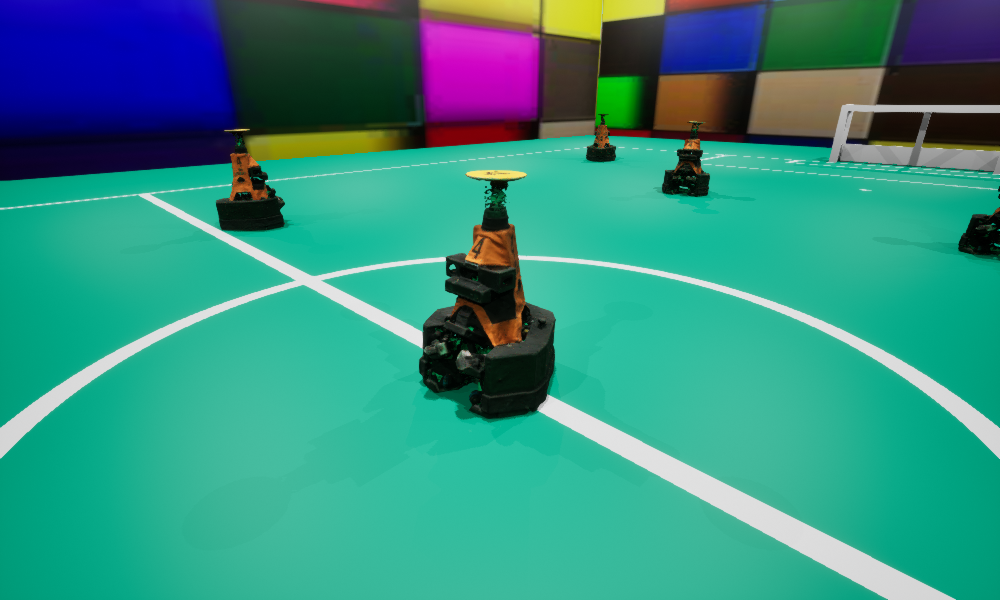o: (419, 170, 555, 417), (216, 129, 284, 230), (662, 121, 709, 195), (958, 186, 999, 255), (586, 114, 615, 161)
